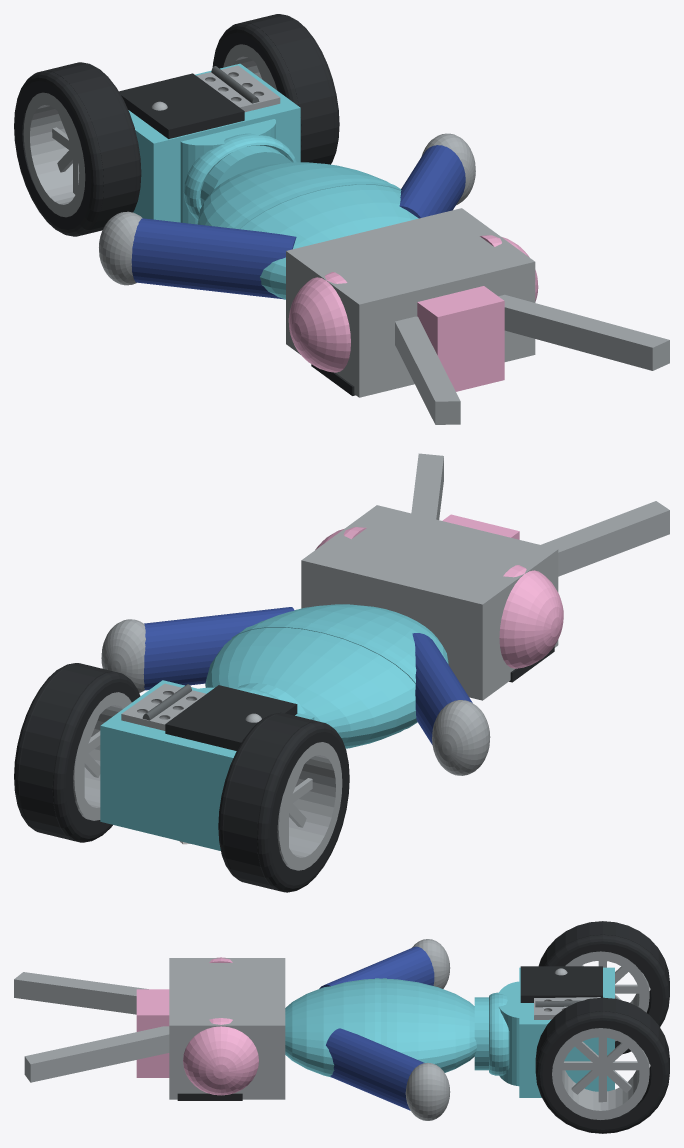
File: tinker.obj
The picture shows the model from 3 angles, top to bottom: view 1: azimuth 30°, elevation 25°; view 2: azimuth 150°, elevation 25°; view 3: azimuth 270°, elevation 25°; orthographic projection. The views are drawn at different scales.
Visible parts, largest first — view 1: group_0_10988977, group_0_2829873, group_0_7720667, group_0_3888547, group_0_15708628; view 2: group_0_10988977, group_0_7720667, group_0_2829873, group_0_3888547, group_0_15708628; view 3: group_0_10988977, group_0_7720667, group_0_2829873, group_0_15708628, group_0_3888547.
Part boxes in pixels (left/top/right/bottom): group_0_10988977: left=23, top=44, right=669, bottom=424; group_0_2829873: left=14, top=14, right=355, bottom=395; group_0_7720667: left=128, top=63, right=418, bottom=299; group_0_3888547: left=131, top=145, right=465, bottom=299; group_0_15708628: left=288, top=235, right=538, bottom=391; group_0_10988977: left=73, top=453, right=669, bottom=870; group_0_7720667: left=100, top=604, right=448, bottom=850; group_0_2829873: left=14, top=646, right=554, bottom=892; group_0_3888547: left=143, top=607, right=472, bottom=744; group_0_15708628: left=315, top=514, right=563, bottom=668; group_0_10988977: left=14, top=939, right=649, bottom=1120; group_0_7720667: left=285, top=967, right=614, bottom=1097; group_0_2829873: left=177, top=921, right=669, bottom=1133; group_0_15708628: left=136, top=957, right=258, bottom=1095; group_0_3888547: left=319, top=946, right=434, bottom=1110.
Bounding box in the file's own units: 83 × 33 × 161.
